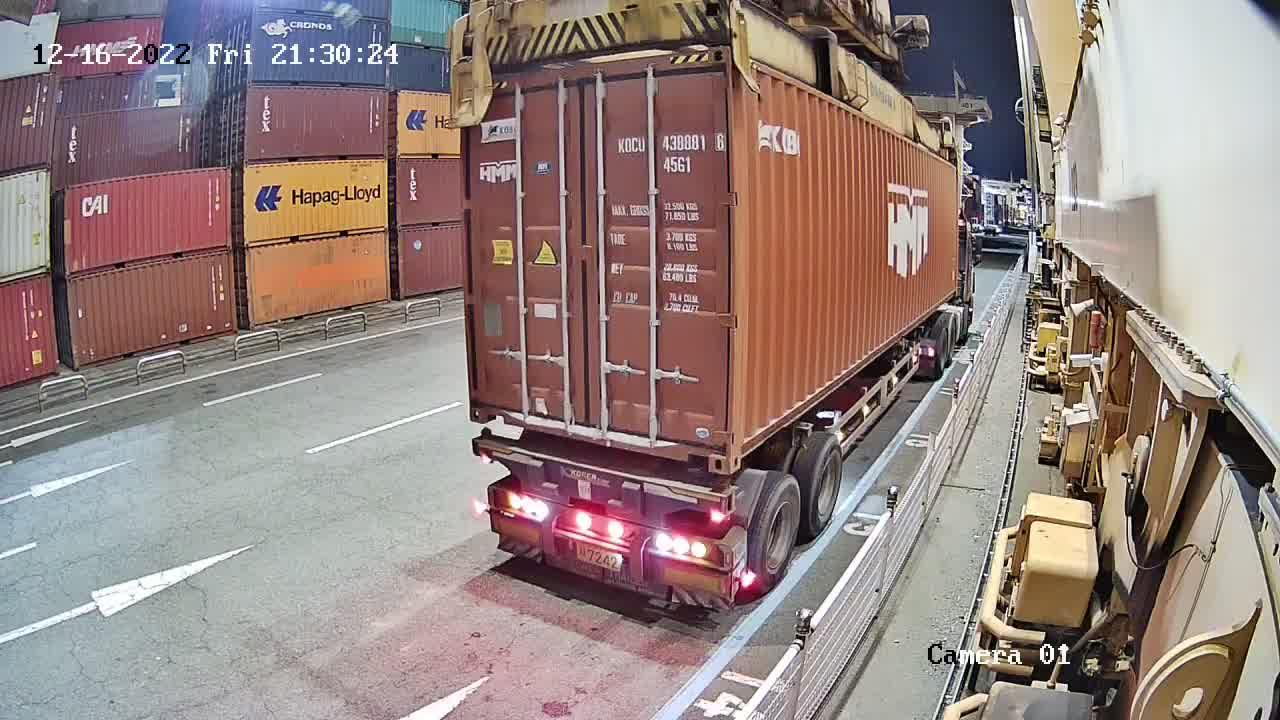Chassis: (474, 447, 731, 544)
Container: (470, 389, 733, 477)
Hole_L: (731, 420, 758, 474), (470, 388, 502, 427)
Hole_R: (689, 421, 731, 475)
Tire: (749, 476, 802, 593), (805, 439, 847, 543)
